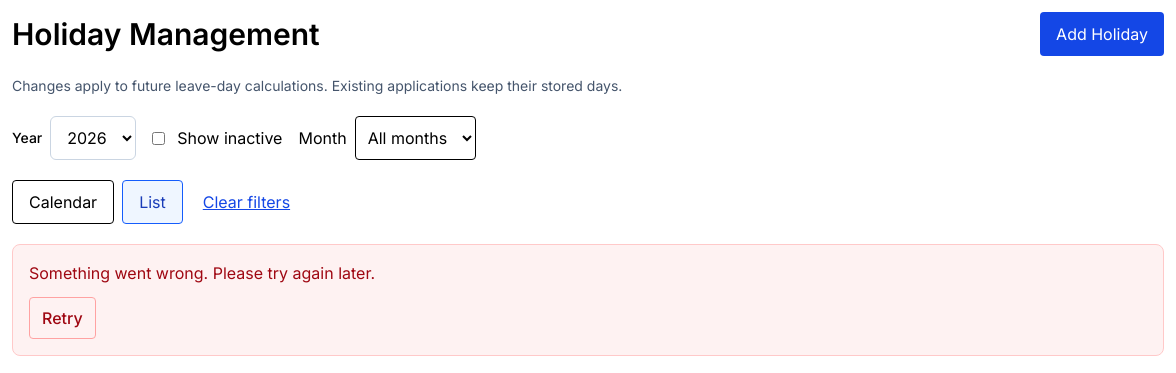
Scenario: Phase 14 holiday administration › recovers a safe list error to empty state
Expected: the message does not show "private", top-left (12, 244), bottom-right (1164, 356)
Click the button "Retry": x=62, y=318 top-left (29, 297), bottom-right (96, 339)
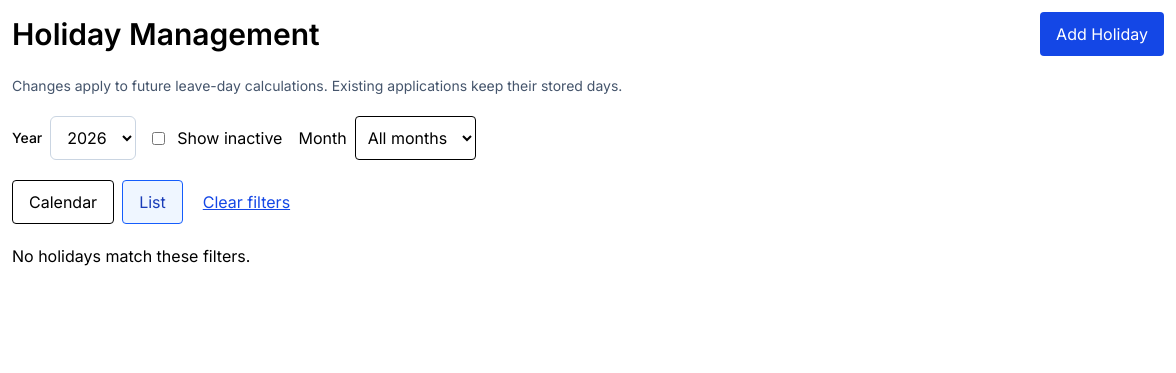
Now the text "No holidays match these filters." is shown, box top-left (12, 246), bottom-right (250, 266)
